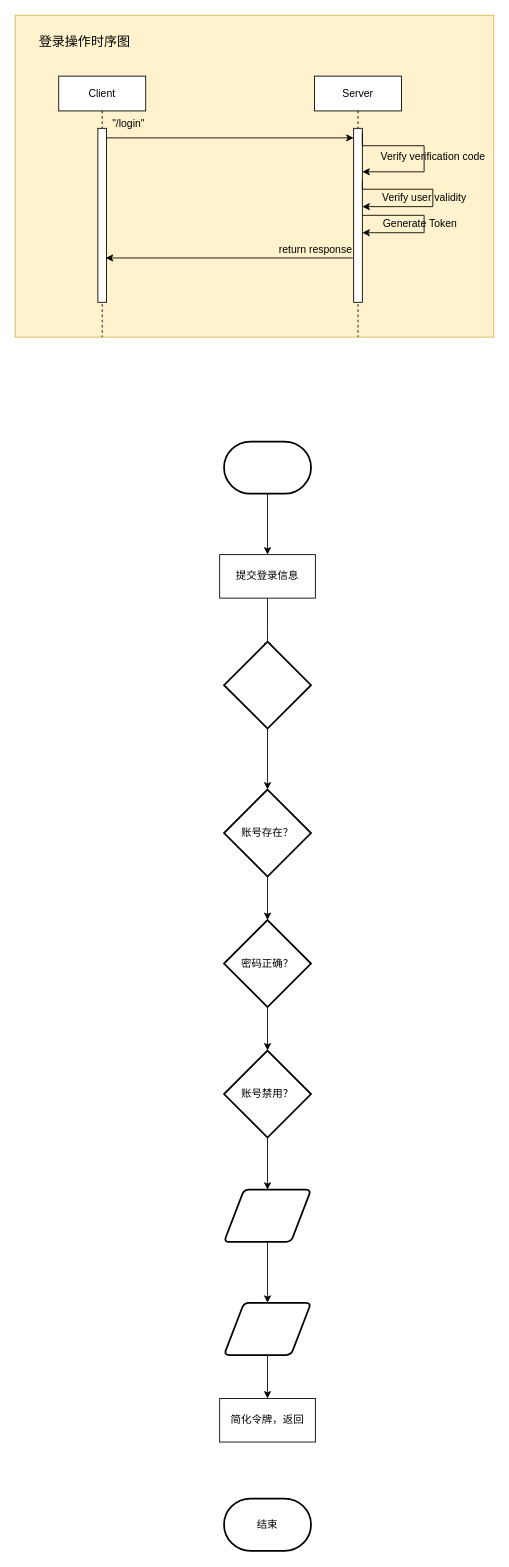
This 509x1567 diagram has some shape labels left out. Here are the shapes that lost their labels. From the top down, the centre of each, then its label:
(267,467): 用户登录开始
(267,684): 验证码正确？
(267,1215): 插入登录日志
(267,1328): 生成令牌
